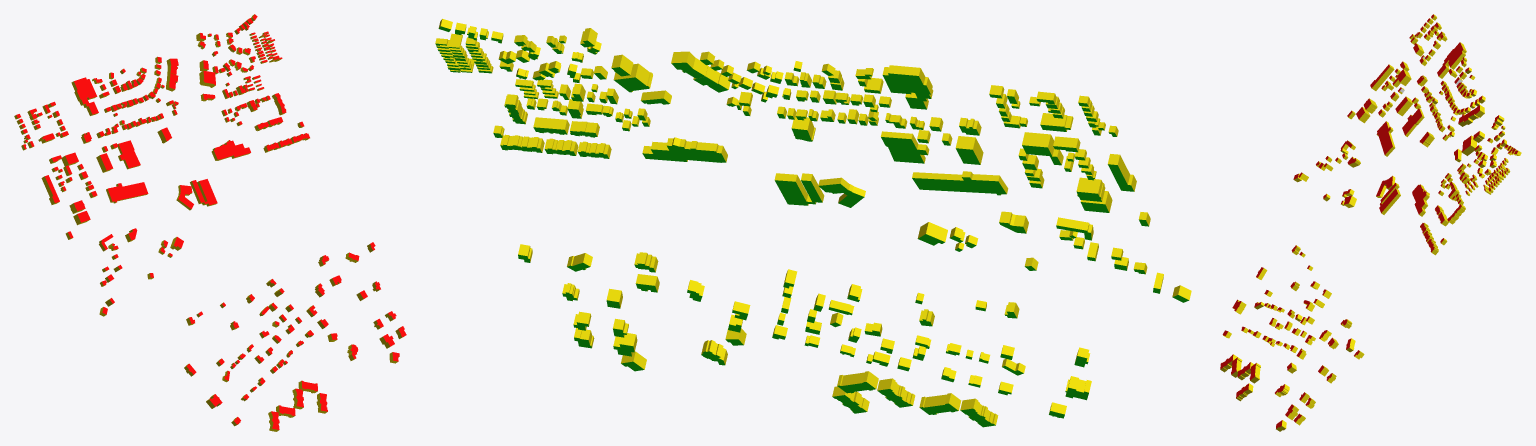
3 views of the same model, side by side, from view 1: azimuth 30°, elevation 25°; view 2: azimuth 150°, elevation 25°; view 3: azimuth 270°, elevation 25° (orthographic). The views are drawn at different scales.
Parts seen in each view (by area): view 1: mesh; view 2: mesh; view 3: mesh.
Part boxes in pixels (<box>): mesh: <box>14,14,406,431</box>; mesh: <box>435,18,1191,427</box>; mesh: <box>1220,14,1521,431</box>.
Size of the model in its own units: 1035 by 871 by 822.
